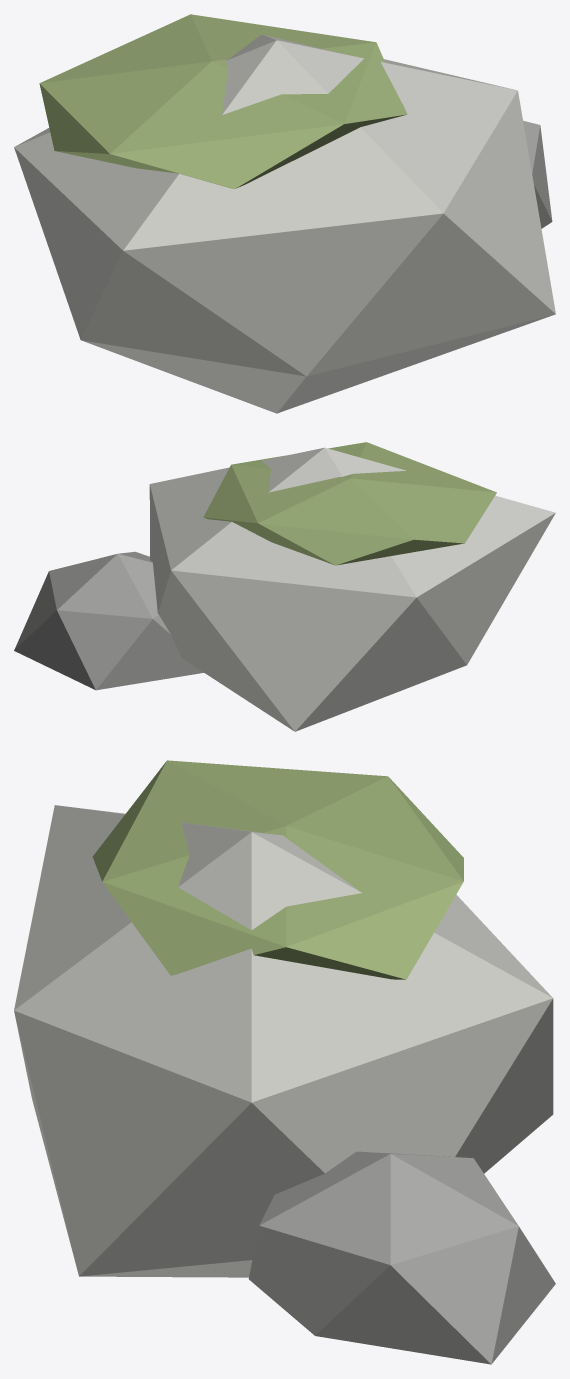
Rendered from rock.glb.
3 views of the same model, one above another, from view 1: azimuth 30°, elevation 25°; view 2: azimuth 150°, elevation 25°; view 3: azimuth 270°, elevation 25° (orthographic). The views are drawn at different scales.
Visible parts, largest first — view 1: rock; view 2: rock; view 3: rock.
Boxes of the visible parts, x1=… form: rock: x1=14, y1=14, x2=555, y2=413; rock: x1=14, y1=442, x2=555, y2=731; rock: x1=14, y1=760, x2=555, y2=1364.
Size of the model in its own units: 2.24 by 1.42 by 1.56.
